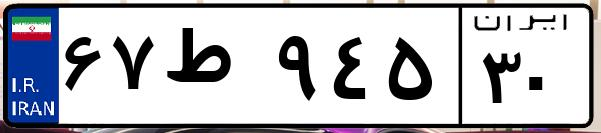0: (525, 38, 570, 115)
3: (475, 38, 525, 113)
4: (330, 28, 385, 110)
5: (385, 28, 445, 110)
6: (57, 26, 110, 100)
7: (110, 28, 158, 98)
9: (270, 28, 330, 110)
ط: (158, 20, 270, 120)
